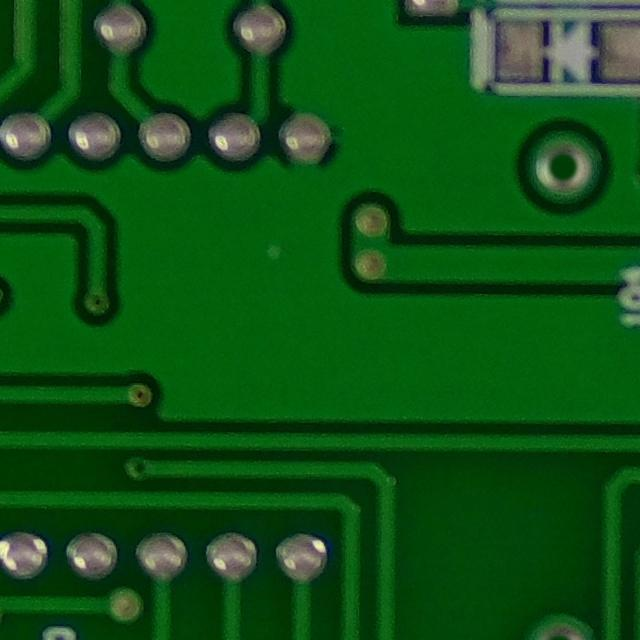missing_hole: (531, 134, 595, 200)
